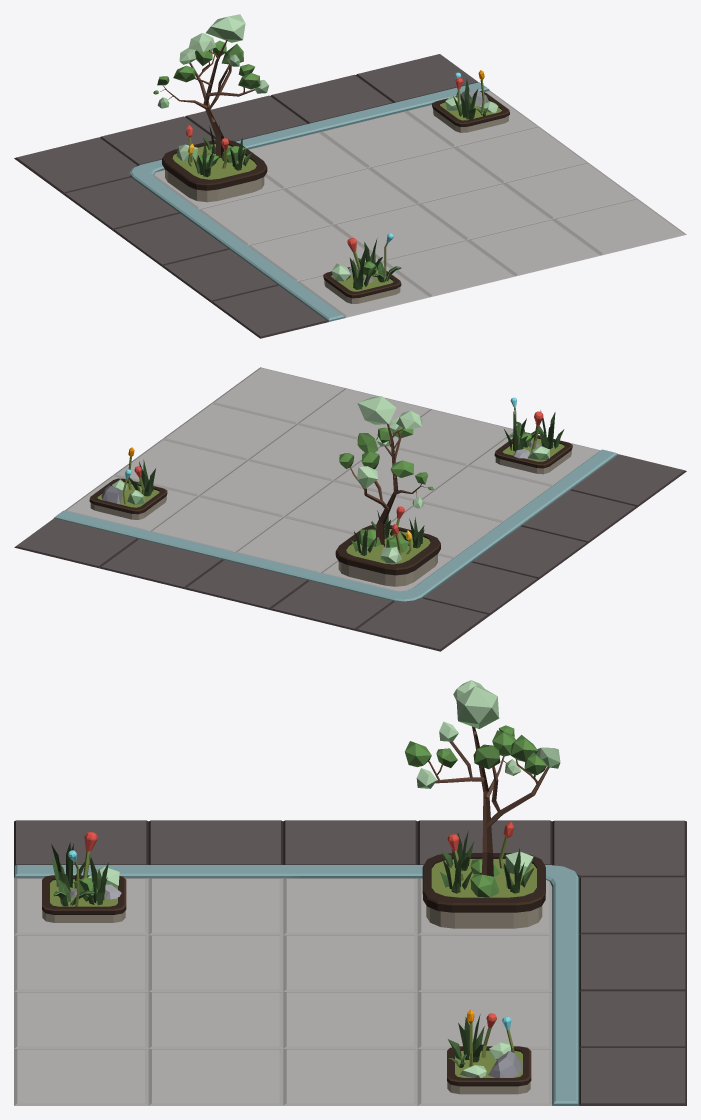
File: OpenCorner_A.glb
The picture shows the model from 3 angles, top to bottom: view 1: azimuth 30°, elevation 25°; view 2: azimuth 150°, elevation 25°; view 3: azimuth 270°, elevation 25°; orthographic projection. The views are drawn at different scales.
Visible parts, largest first — view 1: OpenCorner_A, Tree_01.017, Cube.285, Cube.288, Cube.289; view 2: OpenCorner_A, Tree_01.017, Cube.285, Cube.289, Cube.288, Grass_03.661; view 3: OpenCorner_A, Tree_01.017, Cube.285, Cube.289, Cube.288, Grass_03.662, Rock_08.048, Grass_03.661, Grass_03.660.
Boxes of the visible parts, x1,y1,x2,y2 form: OpenCorner_A: [14, 54, 686, 338]; Tree_01.017: [153, 14, 268, 157]; Cube.285: [162, 140, 267, 202]; Cube.288: [323, 265, 401, 303]; Cube.289: [432, 91, 509, 132]; OpenCorner_A: [14, 367, 686, 651]; Tree_01.017: [339, 396, 433, 546]; Cube.285: [335, 524, 440, 586]; Cube.289: [89, 478, 167, 519]; Cube.288: [494, 432, 572, 474]; Grass_03.661: [535, 410, 564, 449]; OpenCorner_A: [14, 820, 686, 1105]; Tree_01.017: [405, 680, 560, 876]; Cube.285: [422, 853, 545, 928]; Cube.289: [447, 1046, 531, 1094]; Cube.288: [42, 875, 126, 922]; Grass_03.662: [448, 1014, 484, 1062]; Rock_08.048: [488, 1051, 522, 1077]; Grass_03.661: [51, 842, 84, 890]; Grass_03.660: [79, 855, 108, 905].
Size of what is drawn, in the model's own units: 16 by 5.98 by 16.
1 material, 1 textured.
